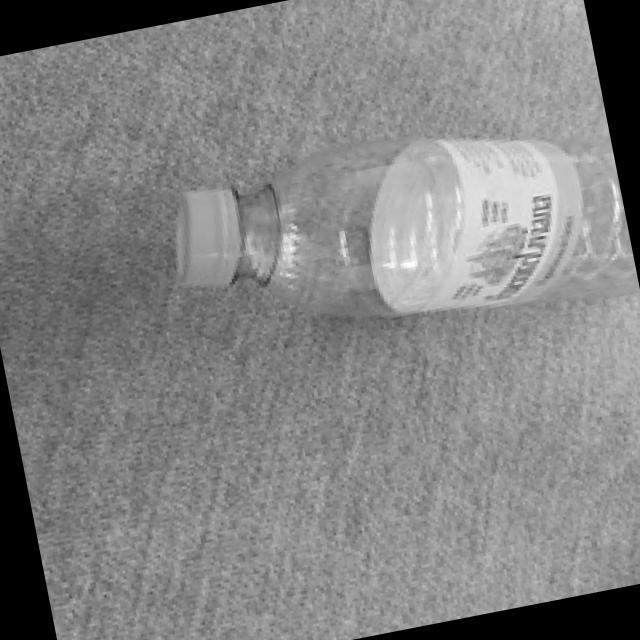good: (131, 86, 640, 382)
